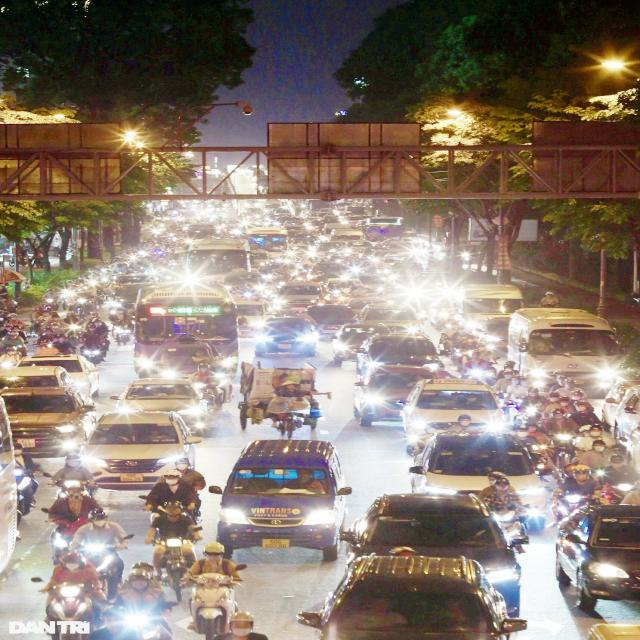Car: (342, 492, 530, 618), (295, 554, 528, 640), (208, 438, 352, 560), (408, 428, 550, 532), (507, 307, 625, 398), (76, 409, 202, 491), (554, 503, 640, 608), (402, 378, 506, 457), (0, 389, 96, 457), (352, 364, 453, 426), (109, 378, 211, 438), (355, 332, 445, 384), (428, 284, 524, 330), (140, 334, 235, 379), (16, 353, 100, 398), (0, 397, 19, 575), (252, 316, 320, 357), (332, 323, 391, 365), (600, 382, 640, 442), (358, 302, 424, 334), (274, 281, 329, 314), (306, 304, 356, 340), (13, 460, 39, 517), (233, 300, 270, 338), (476, 316, 510, 352), (428, 295, 463, 329), (324, 277, 364, 304), (306, 261, 354, 282), (347, 296, 389, 320), (248, 250, 273, 270)
